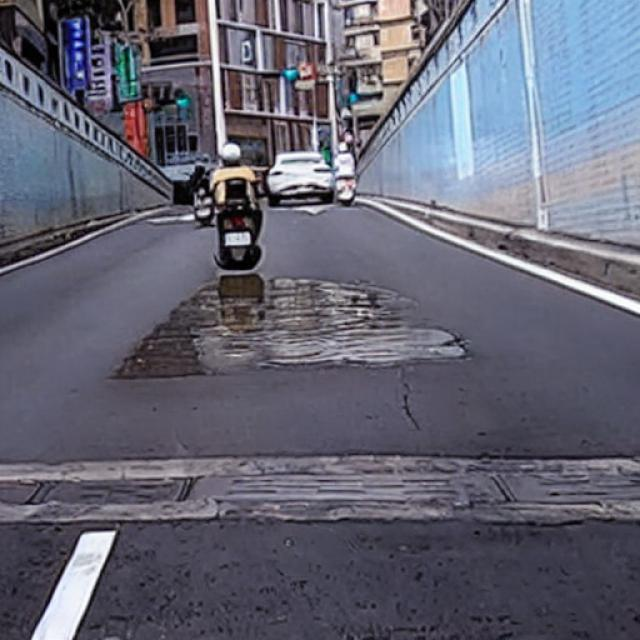puddle: (112, 276, 471, 378)
